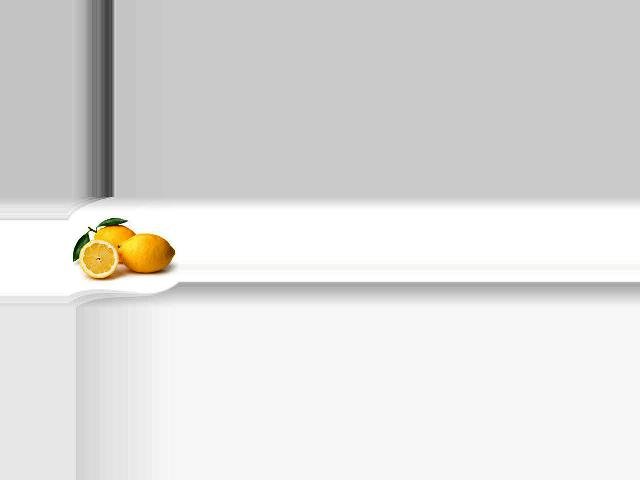lemon: (88, 223, 138, 260)
